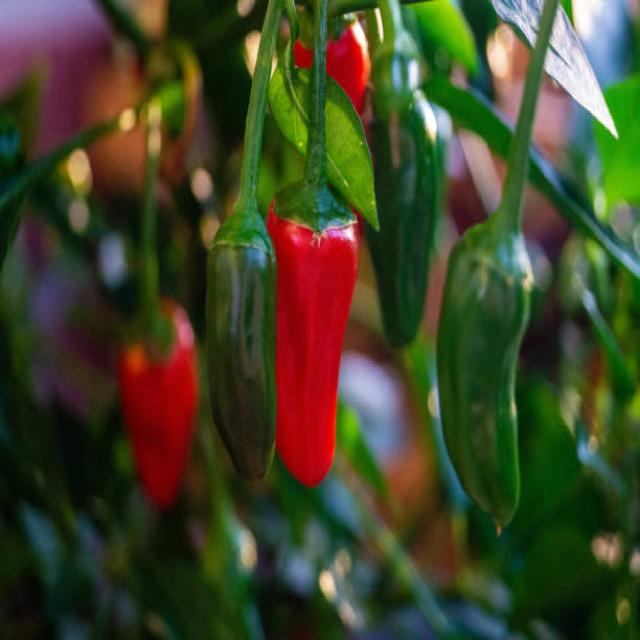Ripe: (267, 201, 358, 485)
Unripe: (437, 210, 532, 525), (206, 246, 276, 478)
